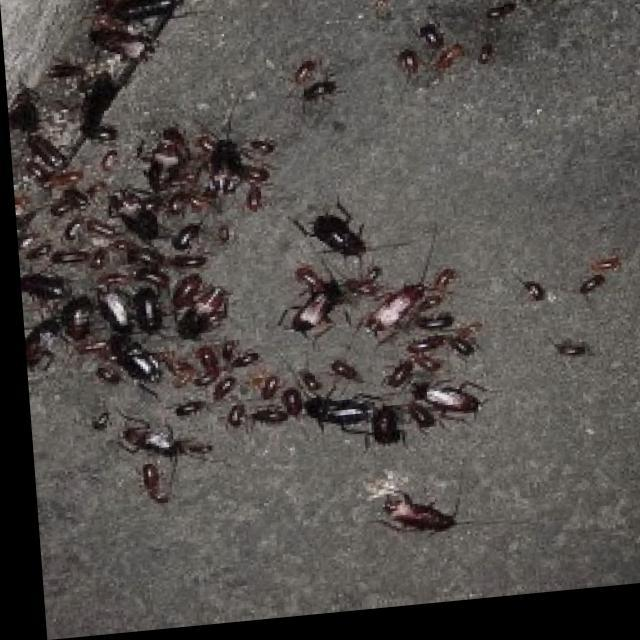cockroach: (294, 194, 374, 264), (378, 486, 468, 539), (370, 275, 439, 337), (107, 418, 190, 469), (296, 270, 352, 342), (14, 307, 71, 376), (131, 127, 187, 196), (89, 7, 148, 68), (307, 388, 378, 437), (176, 278, 230, 340), (108, 183, 158, 245), (16, 259, 76, 308), (364, 392, 410, 455), (422, 378, 482, 422), (202, 126, 238, 194), (131, 277, 167, 345), (116, 337, 162, 388), (282, 76, 358, 106), (98, 284, 138, 341), (62, 294, 94, 355), (384, 36, 430, 78), (169, 268, 205, 318), (132, 464, 172, 508), (22, 135, 68, 173), (448, 330, 488, 370), (175, 214, 214, 255), (42, 193, 91, 225), (37, 165, 91, 194), (566, 274, 616, 305), (289, 357, 326, 398), (549, 331, 599, 360), (198, 338, 228, 383), (46, 238, 92, 266), (232, 159, 282, 184), (326, 358, 369, 384), (483, 1, 531, 24), (249, 406, 303, 426), (384, 352, 414, 388), (280, 382, 305, 425), (405, 350, 441, 379), (225, 396, 253, 433), (84, 122, 126, 146), (438, 43, 470, 74), (526, 274, 550, 314), (244, 182, 270, 218), (285, 60, 321, 86), (210, 374, 242, 403), (80, 218, 118, 242), (410, 332, 449, 355), (230, 346, 264, 372), (417, 23, 450, 48), (248, 132, 281, 156), (472, 42, 501, 69), (171, 400, 211, 416), (258, 372, 280, 401), (65, 218, 85, 244), (176, 256, 212, 268), (222, 337, 235, 362), (222, 222, 232, 246)
